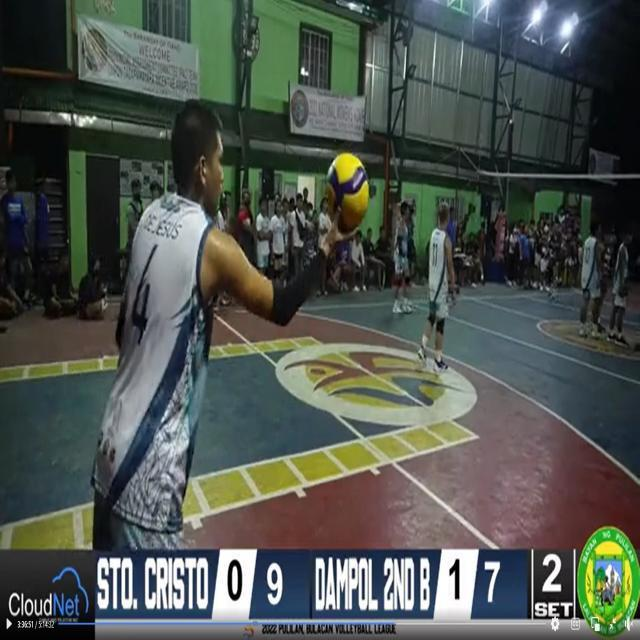volleyball: (326, 153, 368, 234)
